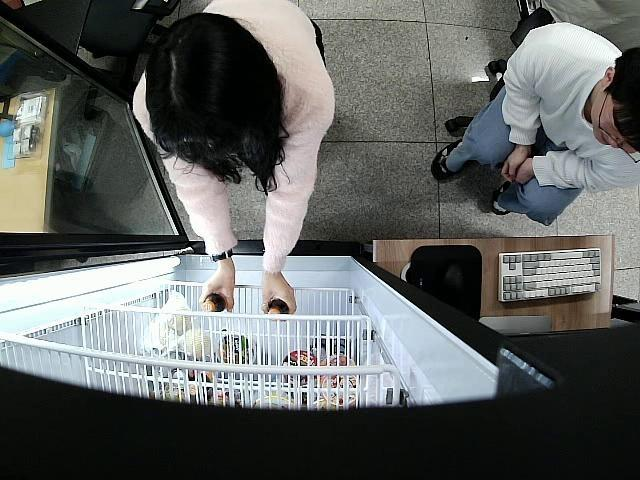17_vita500: (266, 298, 290, 322), (204, 292, 227, 314)
